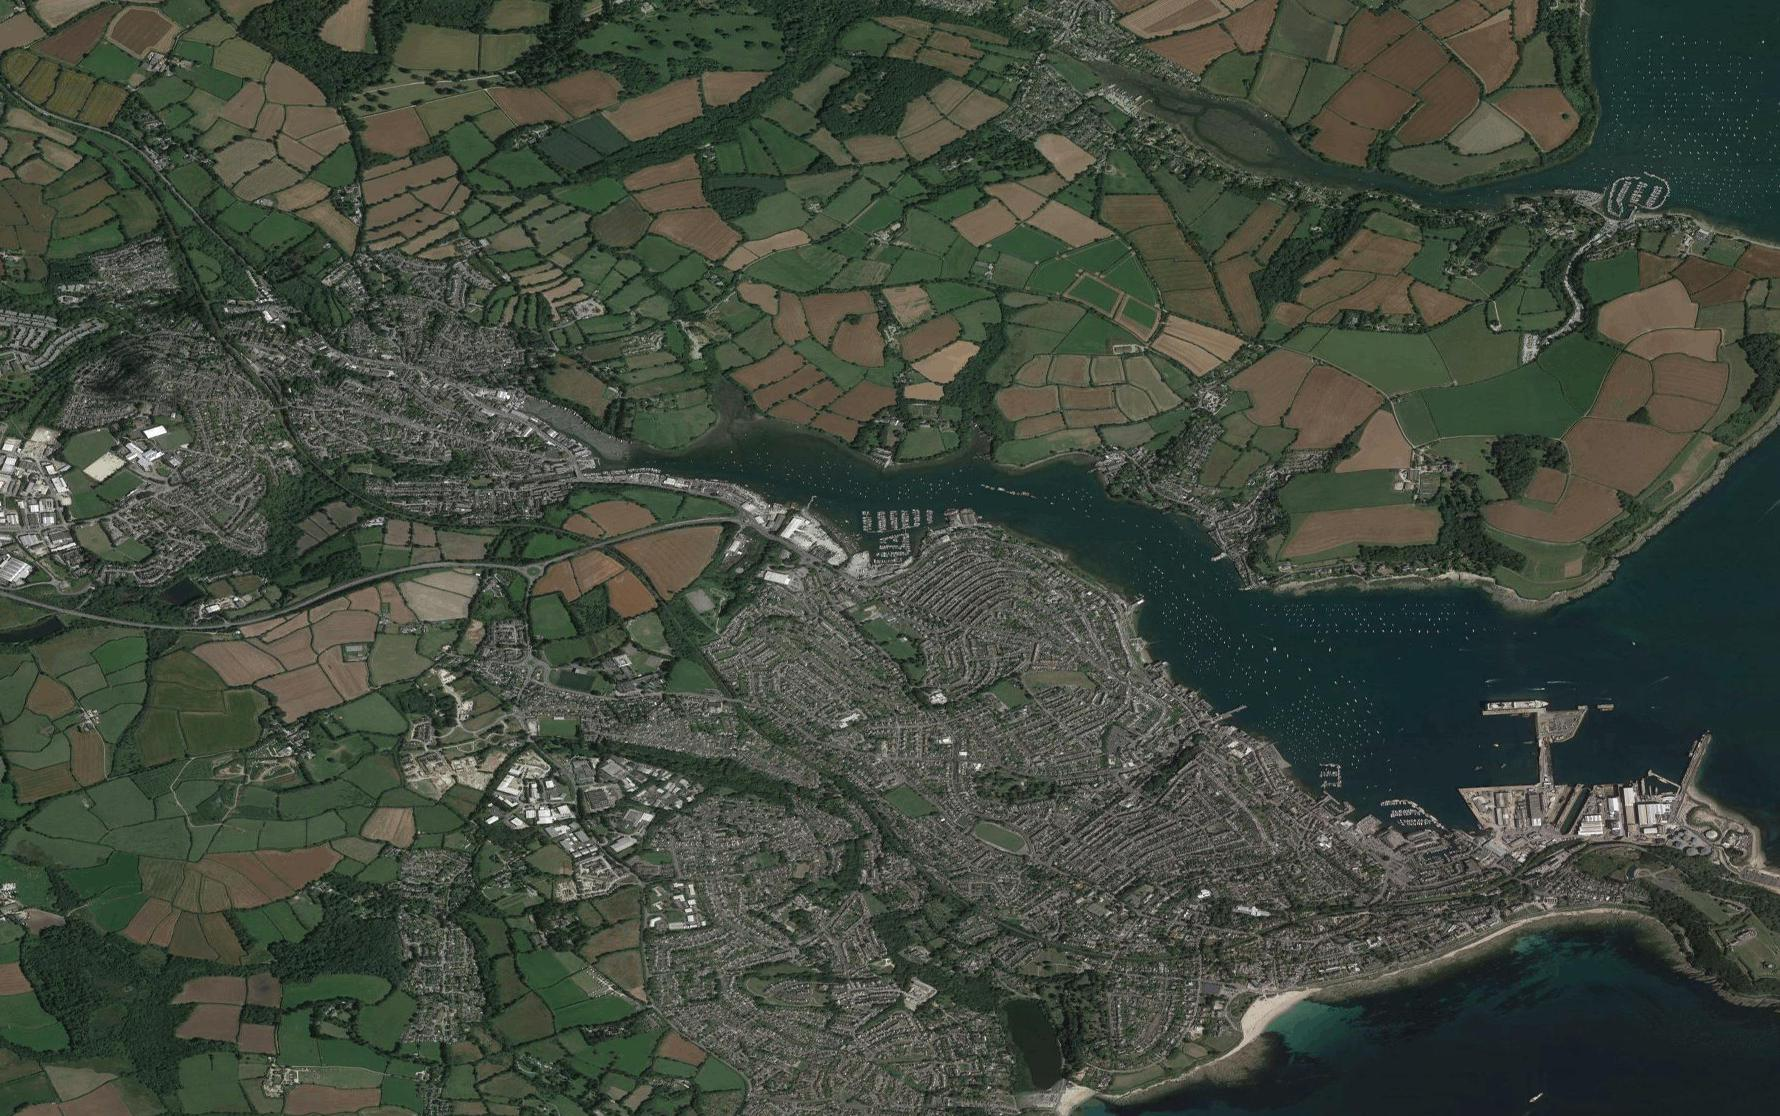harbor: (1367, 670, 1774, 876), (772, 480, 986, 571), (1586, 156, 1687, 228)
industrial: (3, 429, 77, 579)
motorway: (353, 555, 521, 588), (610, 508, 736, 544), (1, 588, 120, 624), (260, 582, 353, 626), (123, 607, 258, 636), (524, 539, 605, 586)
